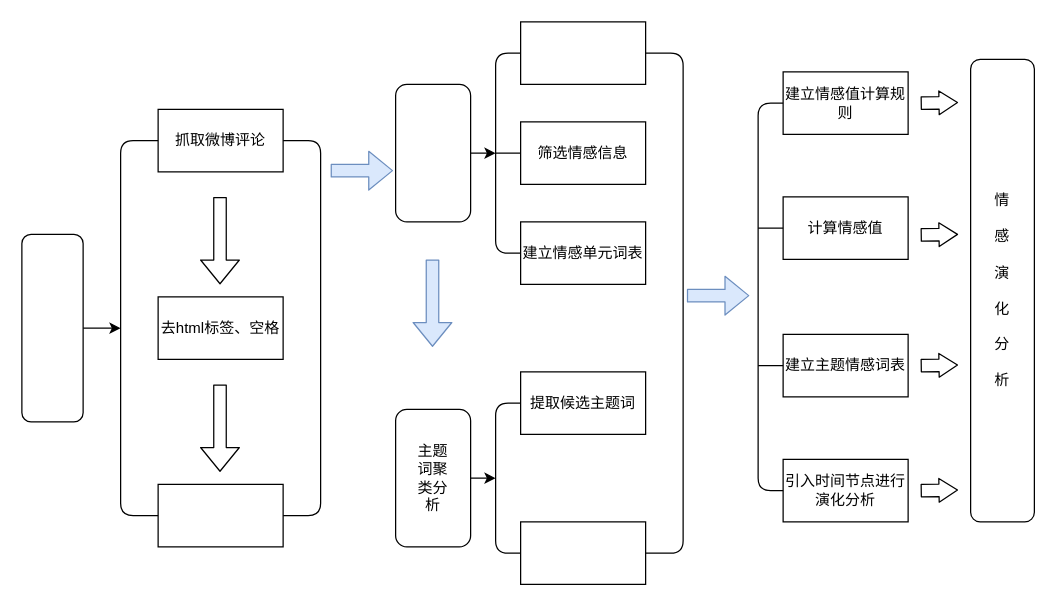
Some shapes in this 1056 by 606 pixel diagram are drawn without their labels. Each missing label, with the centre of its shape:
分词、去停用词、词性标注: the point at 220,515
情感 信息 的抽 取与 判别: the point at 432,152
数 据 预 处 理: the point at 52,327
聚类分析修正主题词: the point at 582,552
语义角色标注: the point at 582,52
